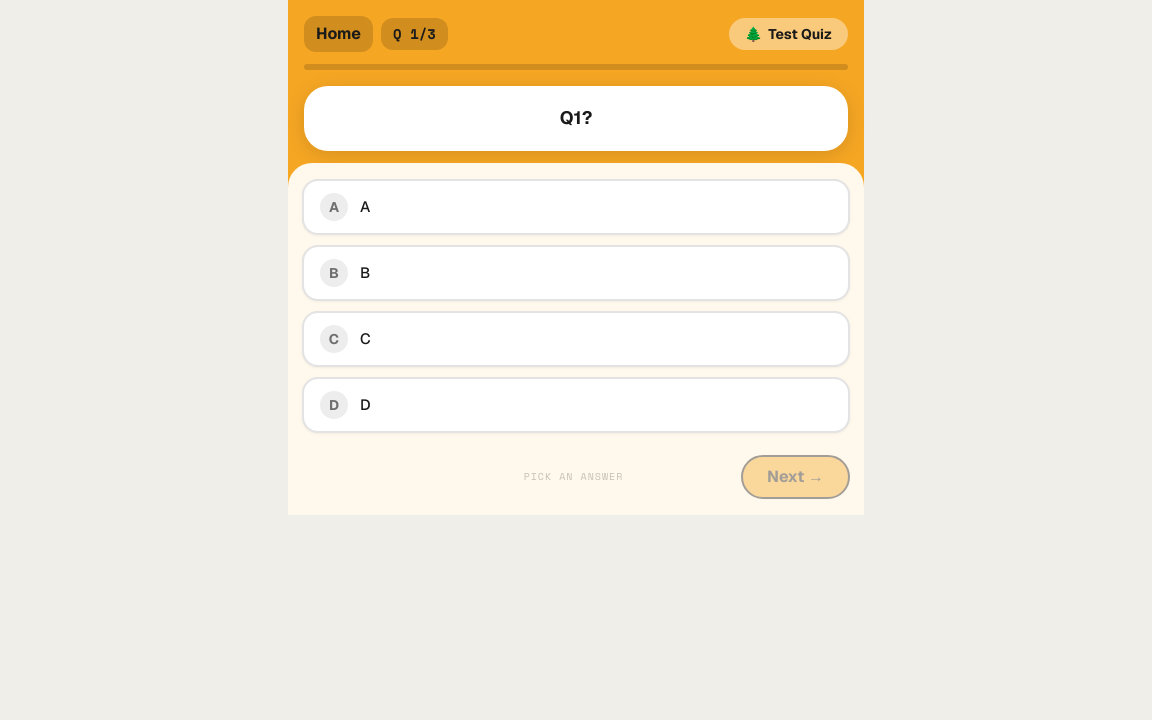
Scenario: QuizPlayer › scores all-correct and reaches the result screen with Retry/Home
Click the button with test id "option".
click(334, 273)  # box [302,245,850,301]
Wait 2500 ms
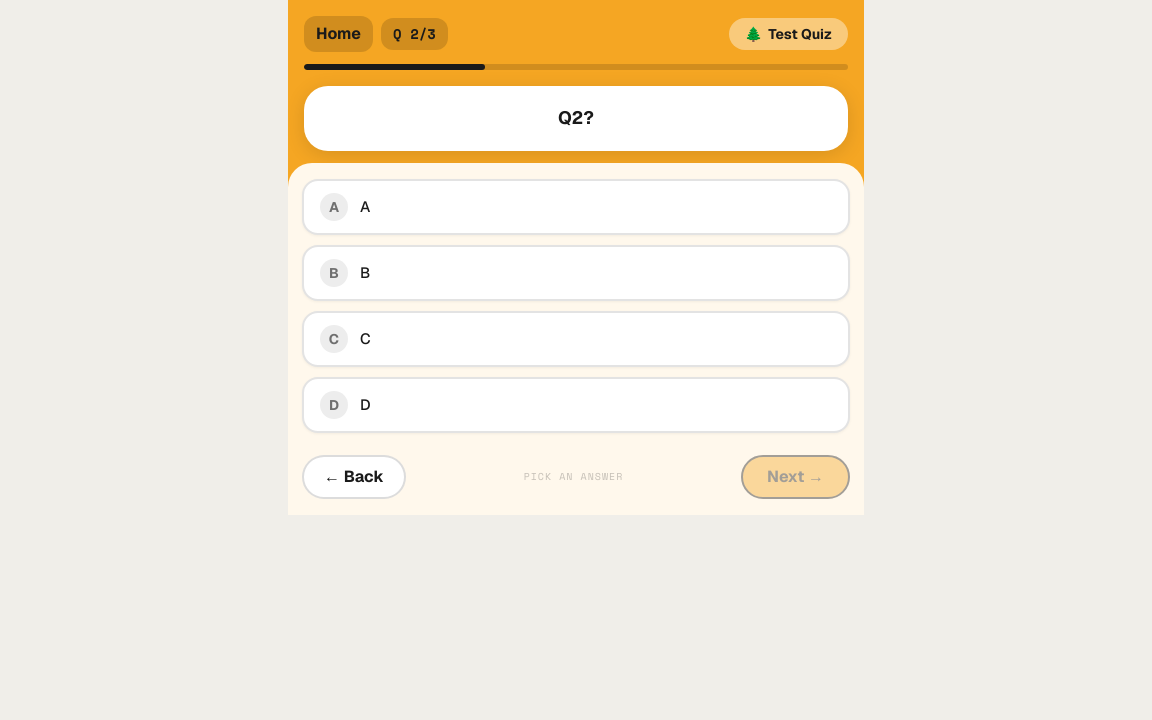
Click the button with test id "option".
click(334, 207)  # box [302,179,850,235]
Wait 2500 ms
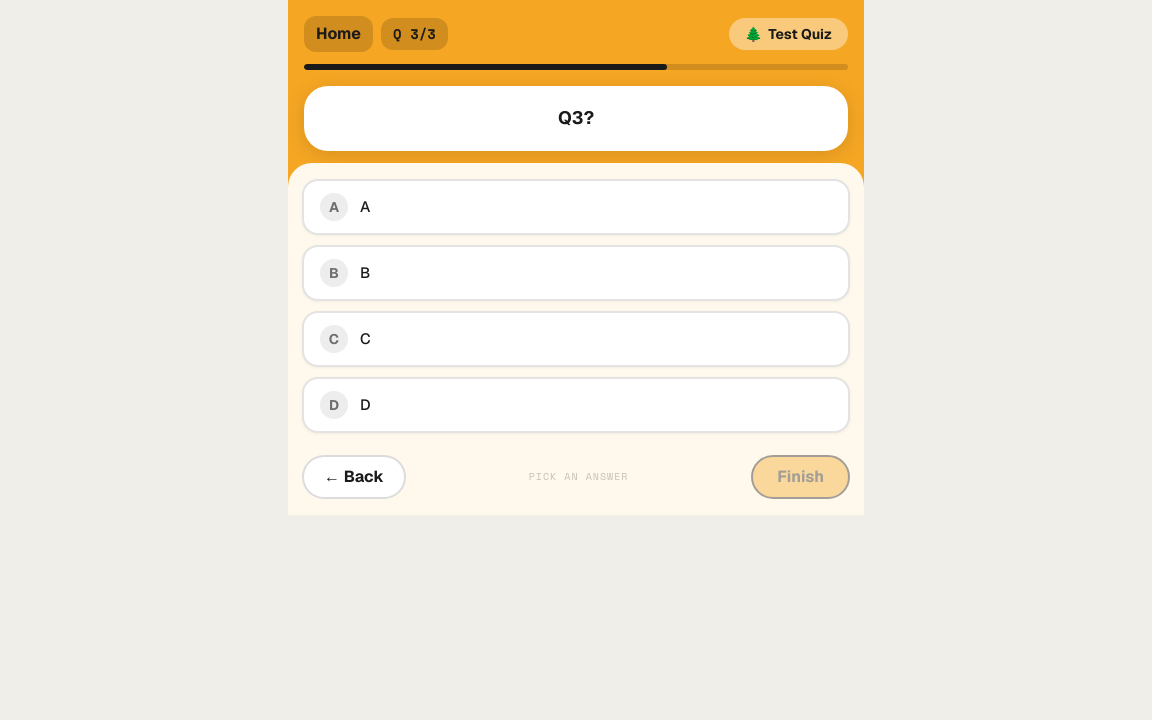
Click the button with test id "option".
click(334, 339)  # box [302,311,850,367]
Wait 2500 ms
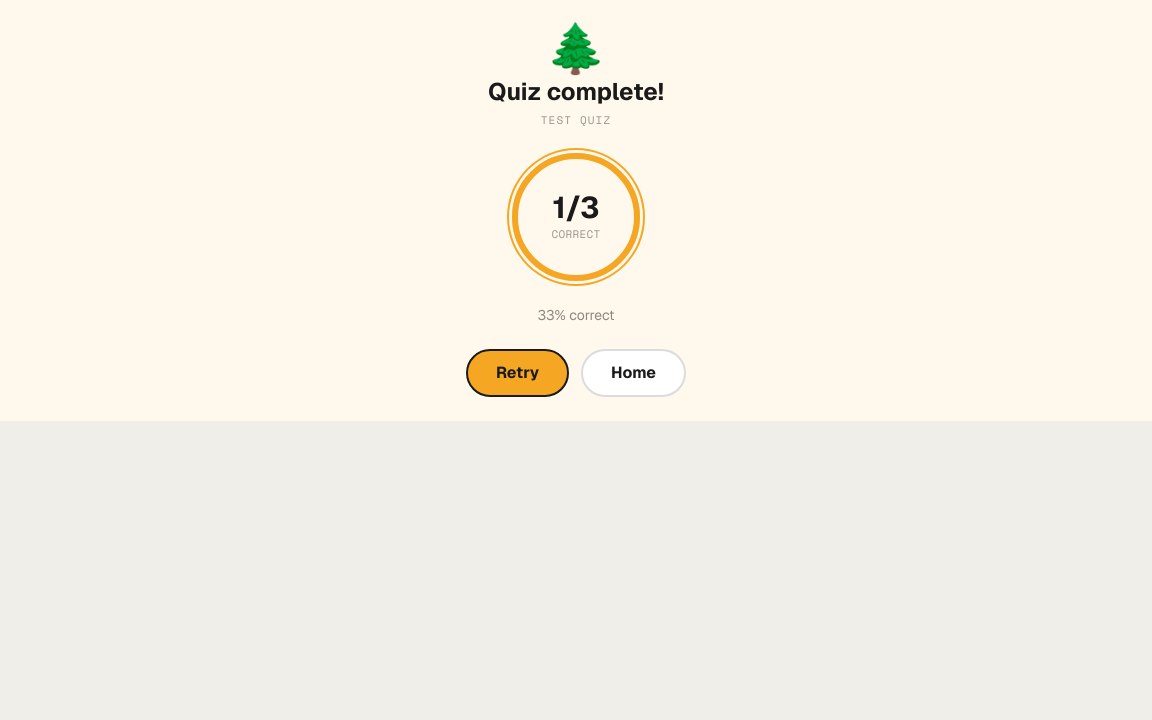
Check: the text "3/3" is shown, box [553,190,599,226]
Check: the heading "Outstanding!" is shown, box [488,76,664,108]
Check: the button "Retry" is shown, box [466,348,569,396]
